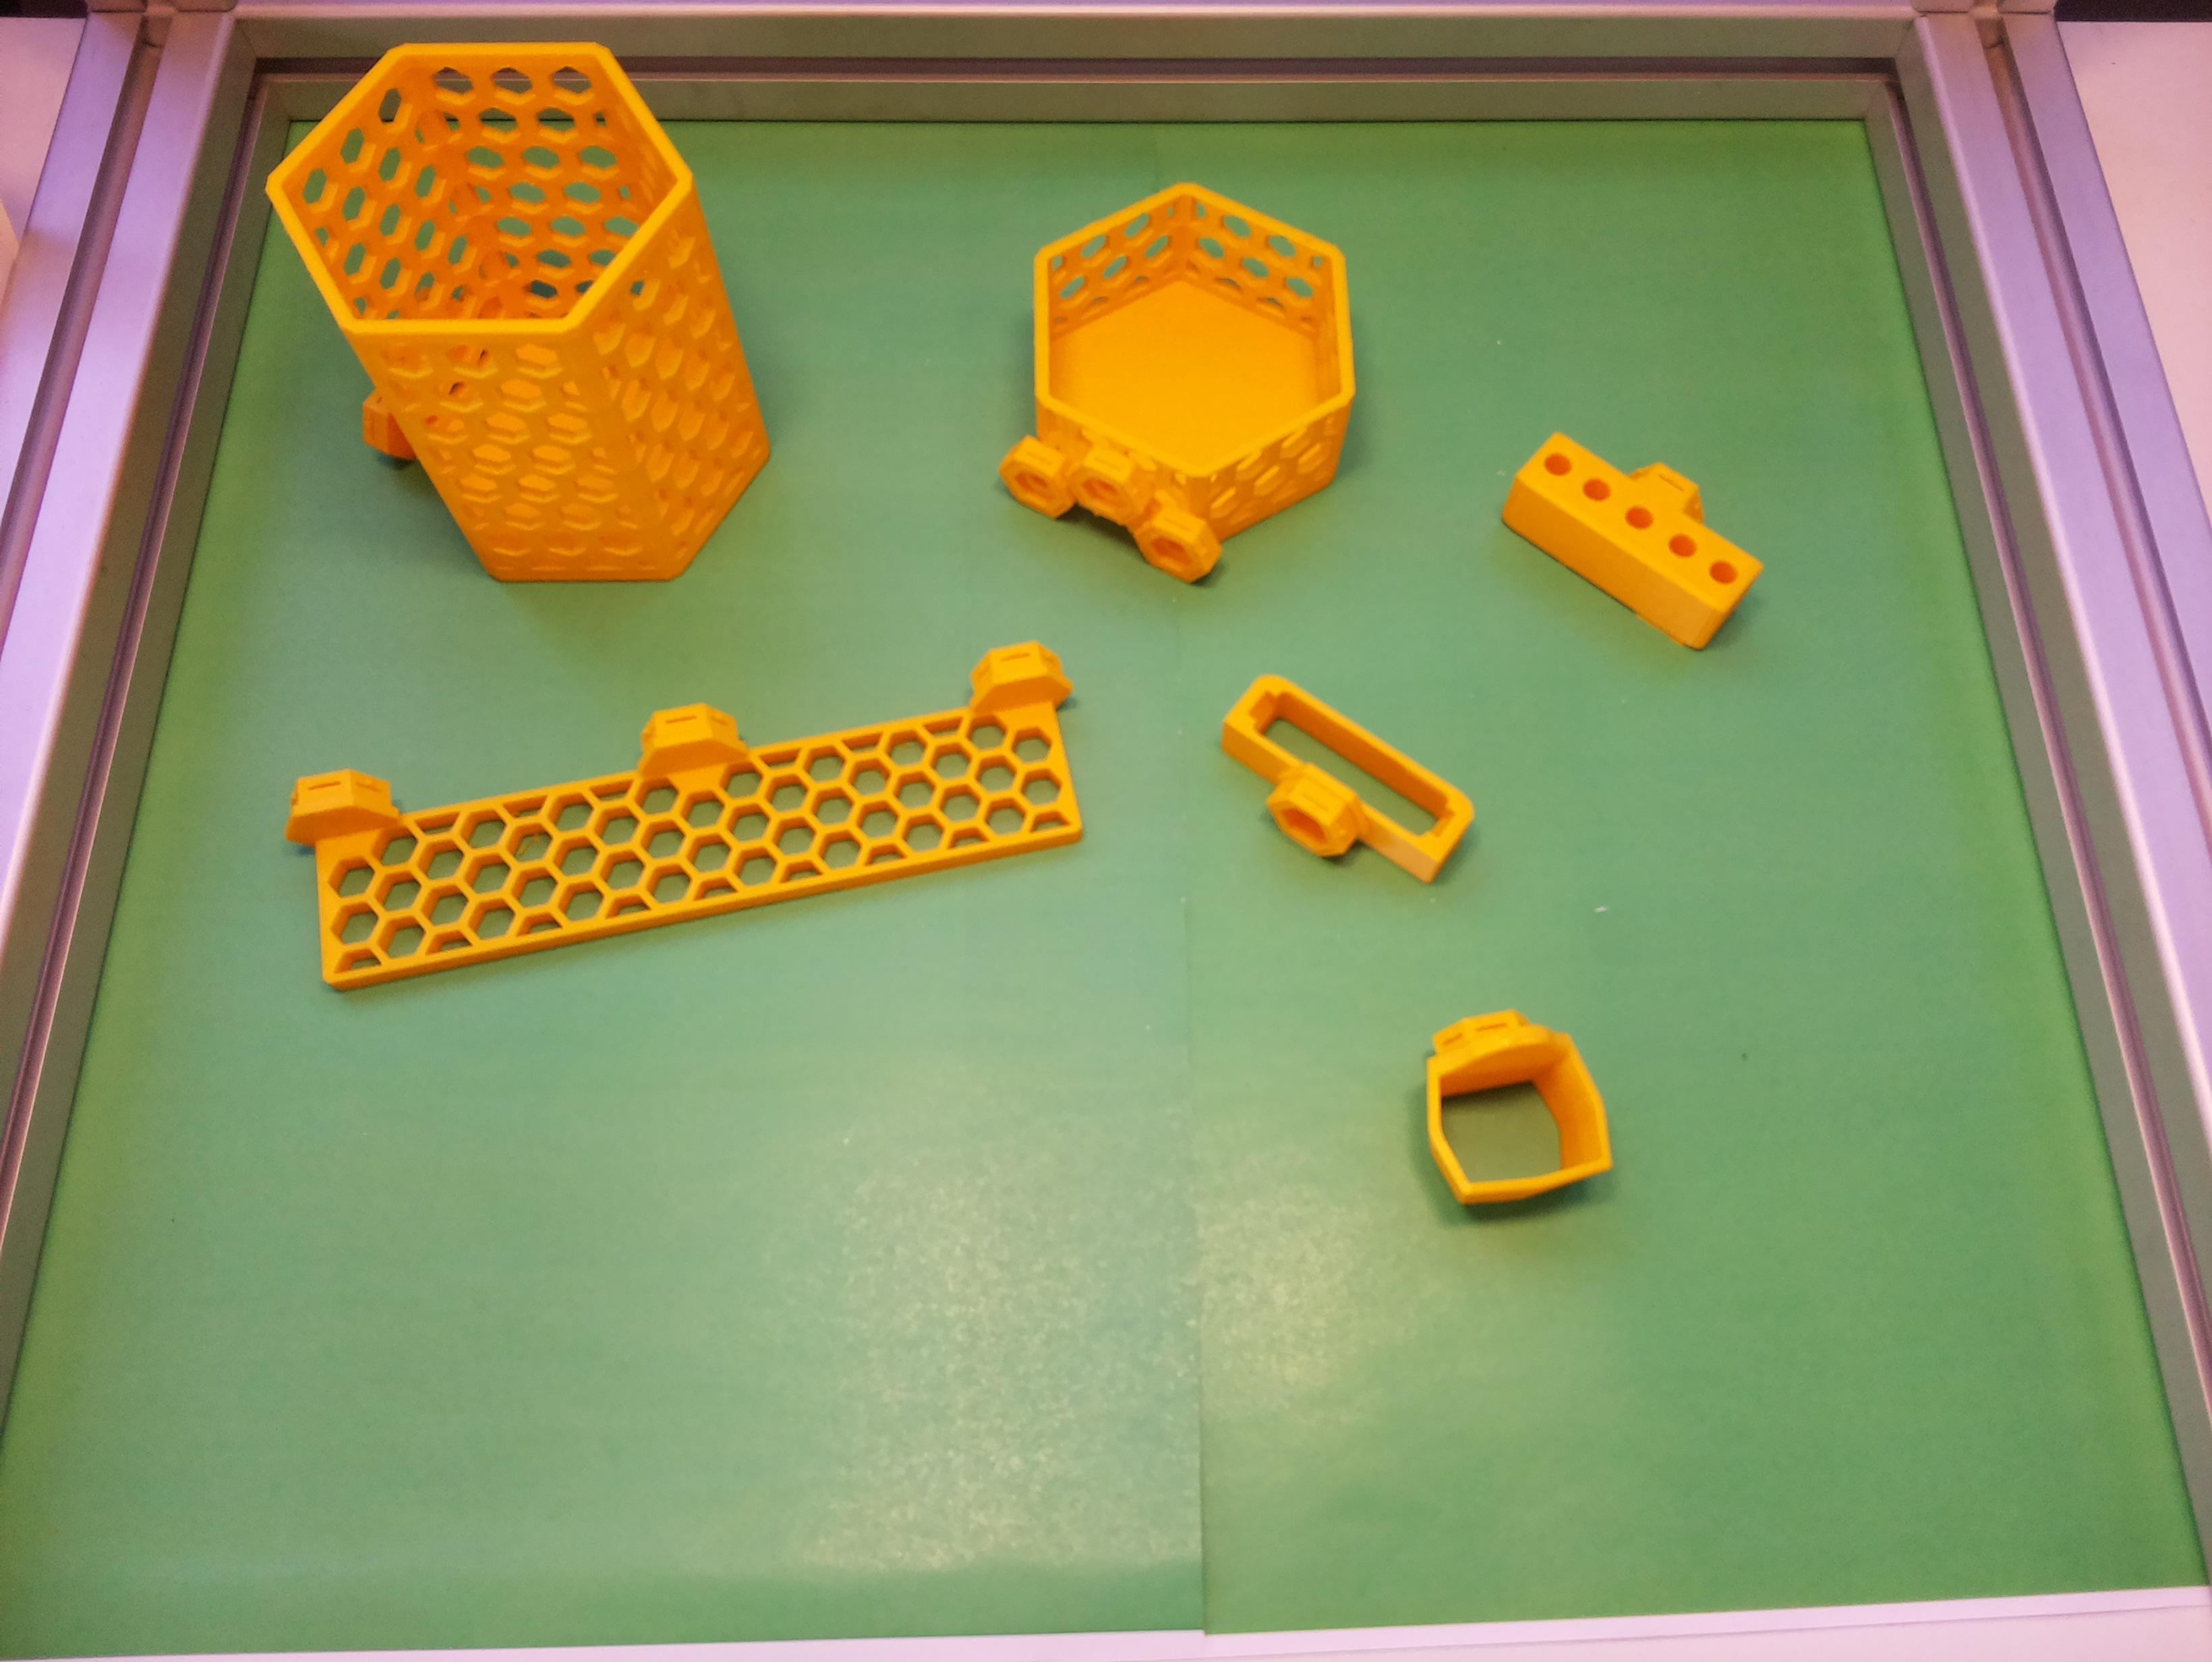bit_holder: (1487, 400, 1781, 658)
bottle_holder: (971, 152, 1391, 609)
cutter_holder: (1189, 662, 1484, 917)
scissor_holder: (1409, 997, 1617, 1213)
tool_holder: (276, 625, 1103, 997)
